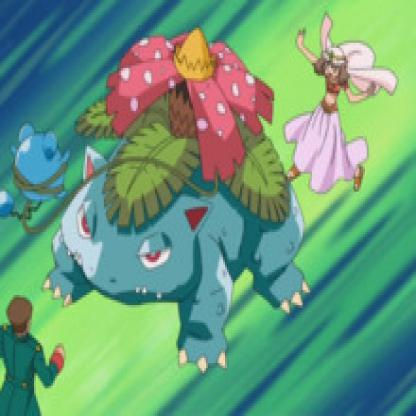Venusaur: (46, 16, 313, 393)
